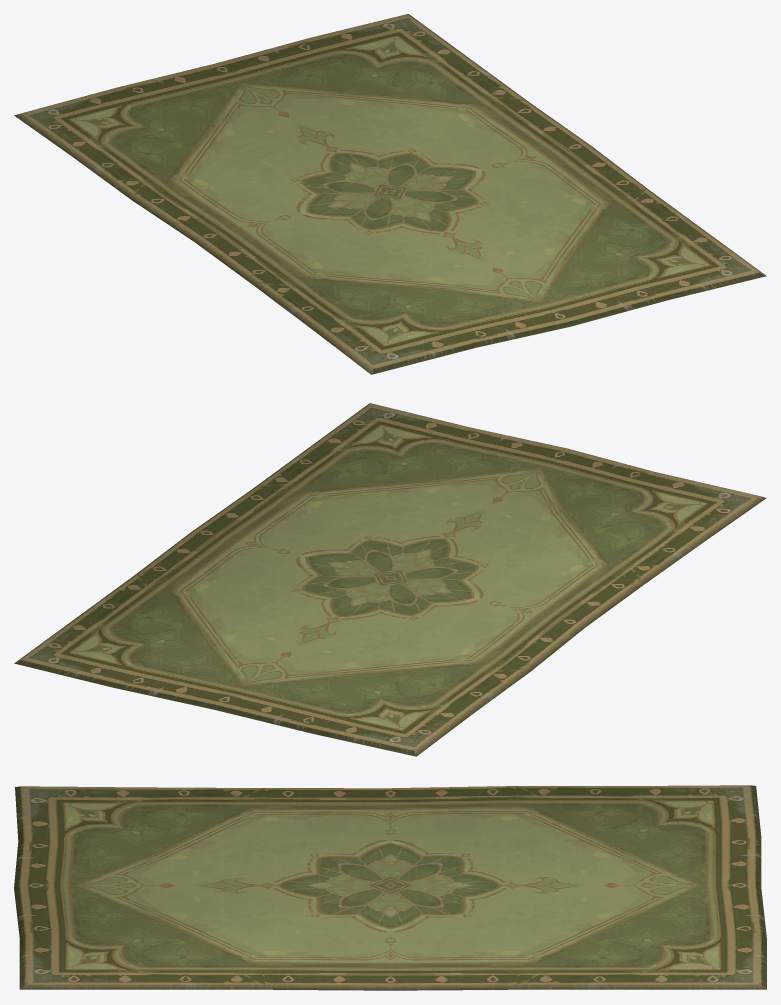
Rendered from Homeworld_Interior_Xm_Carpet_Prop_Wharf_04_Vo.fbx.
The picture shows the model from 3 angles, top to bottom: view 1: azimuth 30°, elevation 25°; view 2: azimuth 150°, elevation 25°; view 3: azimuth 270°, elevation 25°; orthographic projection. The views are drawn at different scales.
Parts seen in each view (by area): view 1: Area_Xm_Prop_XKC_Chengshibu_02_Vo; view 2: Area_Xm_Prop_XKC_Chengshibu_02_Vo; view 3: Area_Xm_Prop_XKC_Chengshibu_02_Vo.
Part boxes in pixels (x1,y1,x2,y2): Area_Xm_Prop_XKC_Chengshibu_02_Vo: (14,14,766,374); Area_Xm_Prop_XKC_Chengshibu_02_Vo: (14,403,766,756); Area_Xm_Prop_XKC_Chengshibu_02_Vo: (14,785,766,990).
Size of the model in its own units: 2.35 by 0.0154 by 3.66.
